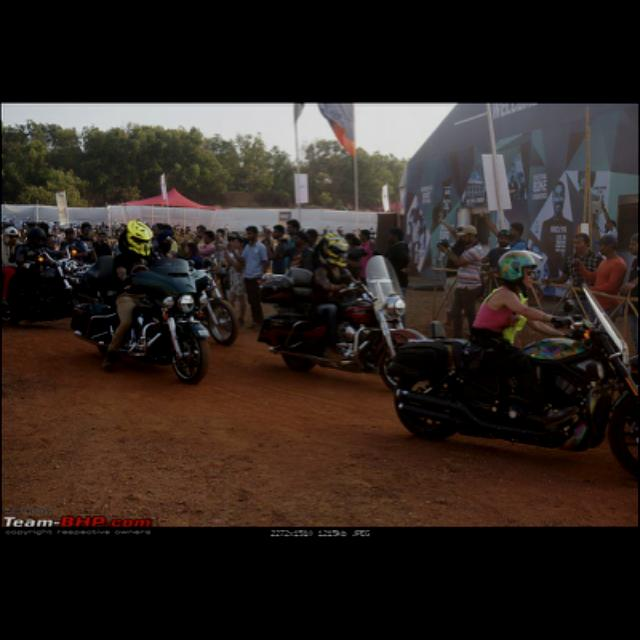With Helmet: (496, 246, 540, 288), (320, 228, 348, 270), (123, 219, 153, 257)
